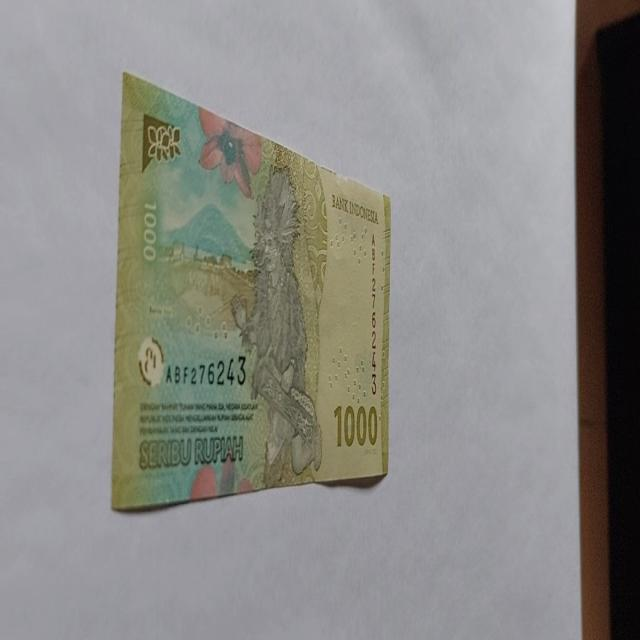seribu rupiah kertas: (110, 70, 392, 512)
